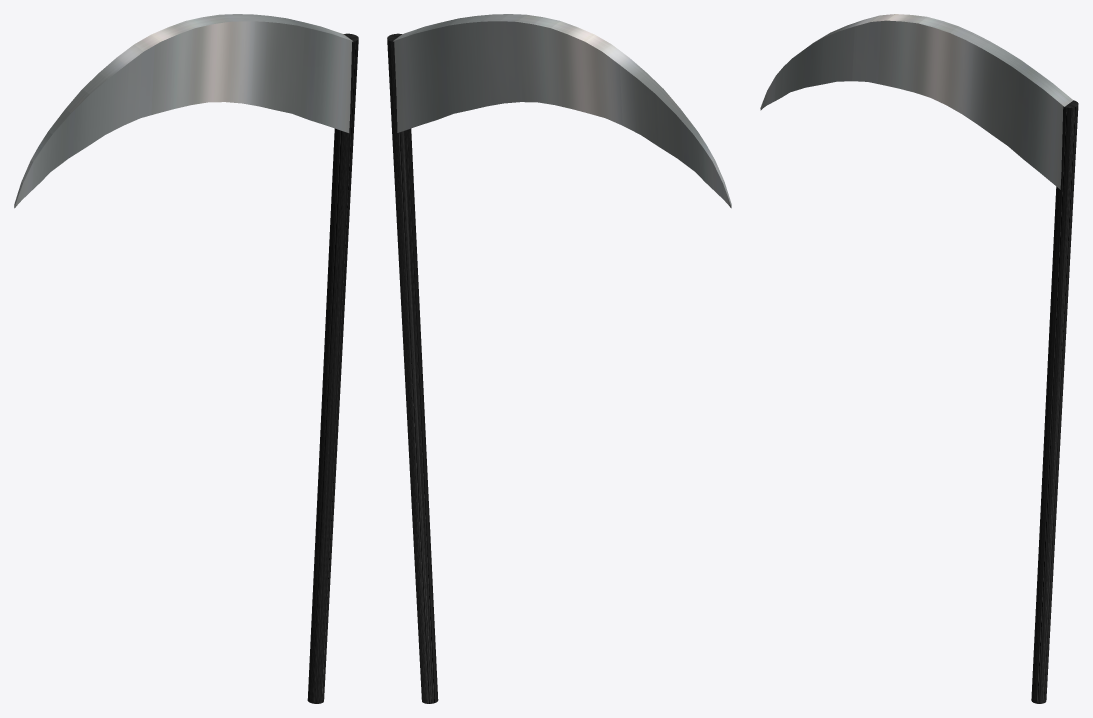
File: grim_oz.obj
The picture shows the model from 3 angles, left to right: view 1: azimuth 30°, elevation 25°; view 2: azimuth 150°, elevation 25°; view 3: azimuth 330°, elevation 25°; orthographic projection. The views are drawn at different scales.
Parts seen in each view (by area): view 1: Oz; view 2: Oz; view 3: Oz.
Part boxes in pixels (<box>): Oz: <box>14,14,358,703</box>; Oz: <box>387,14,731,703</box>; Oz: <box>760,14,1078,703</box>.
Size of the model in its own units: 4.02 by 7.93 by 0.2045.
2 materials, 2 textured.
